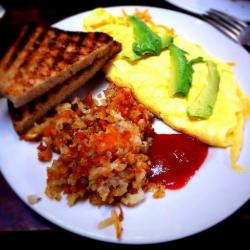omelette: (83, 6, 248, 155)
rice: (44, 92, 159, 211)
